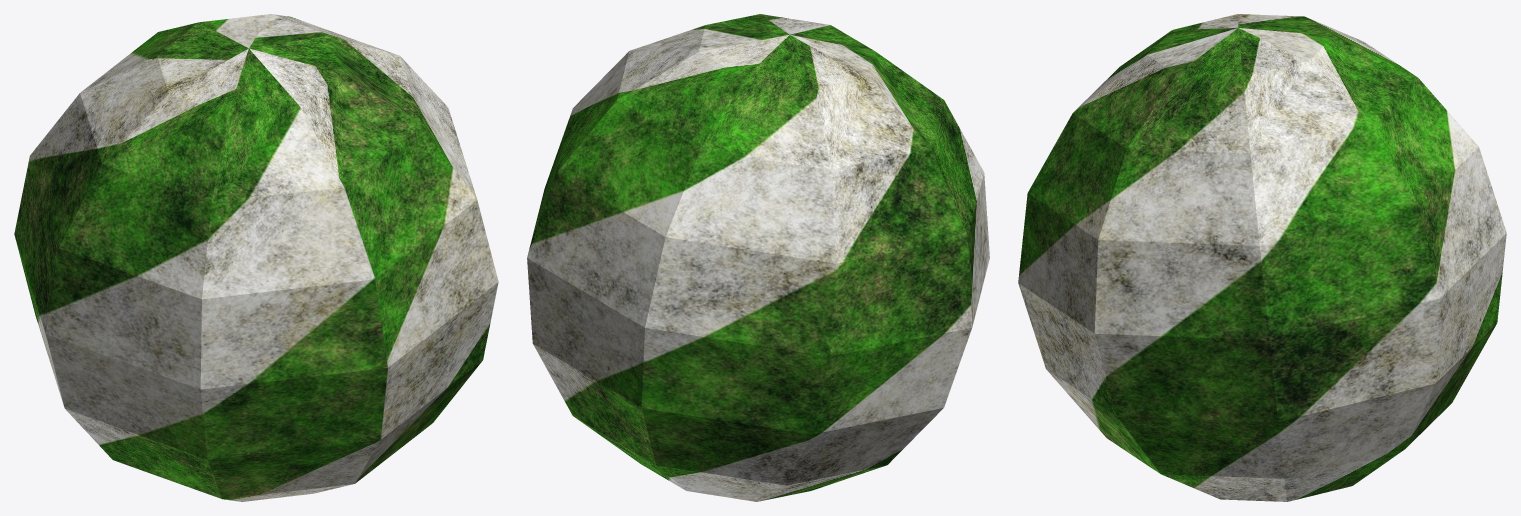
File: BallAnimiert.obj
3 views of the same model, side by side, from view 1: azimuth 30°, elevation 25°; view 2: azimuth 150°, elevation 25°; view 3: azimuth 270°, elevation 25° (orthographic).
Visible parts, largest first — view 1: pSphere1; view 2: pSphere1; view 3: pSphere1.
Part boxes in pixels (bbox=[...]): pSphere1: bbox=[14, 14, 498, 501]; pSphere1: bbox=[527, 14, 989, 501]; pSphere1: bbox=[1018, 14, 1506, 501].
Bounding box in the file's own units: 12.52 × 12.47 × 12.52.
1 material, 1 textured.
